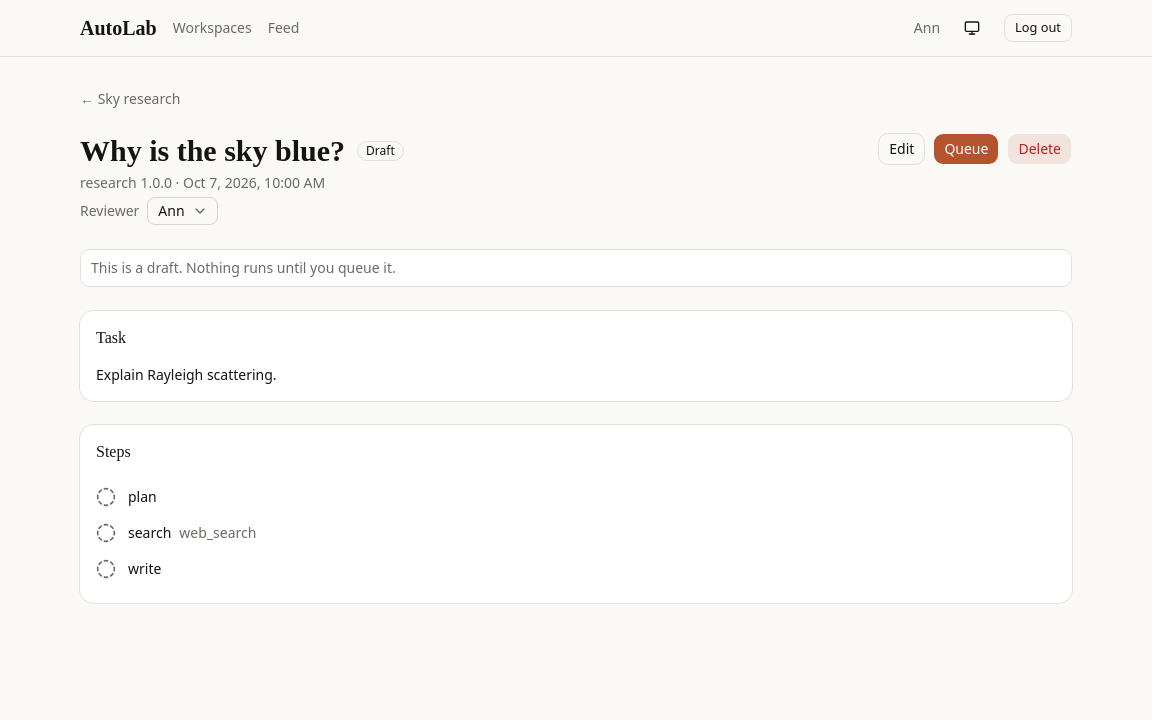
Scenario: a draft shows the planned steps and can be queued
Check: the text "web_search" is shown, box [179, 523, 256, 542]
Check: the number of icons named "Waiting" is 3, box [96, 487, 116, 507]; [96, 523, 116, 543]; [96, 559, 116, 579]
Click the button "Queue" at (966, 149), box [933, 133, 999, 165]
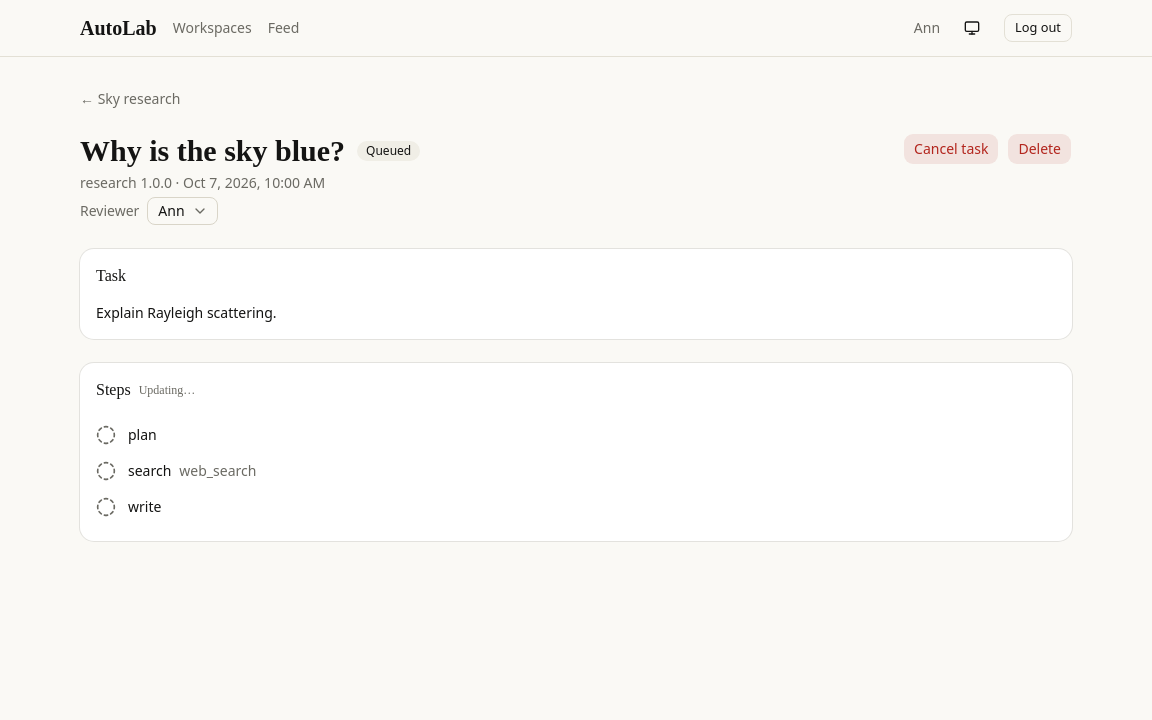
Check: the text "Queued" is shown, box [357, 141, 420, 161]
Check: the text "Updating…" is shown, box [139, 382, 195, 398]
Check: the button "Edit" is gone
